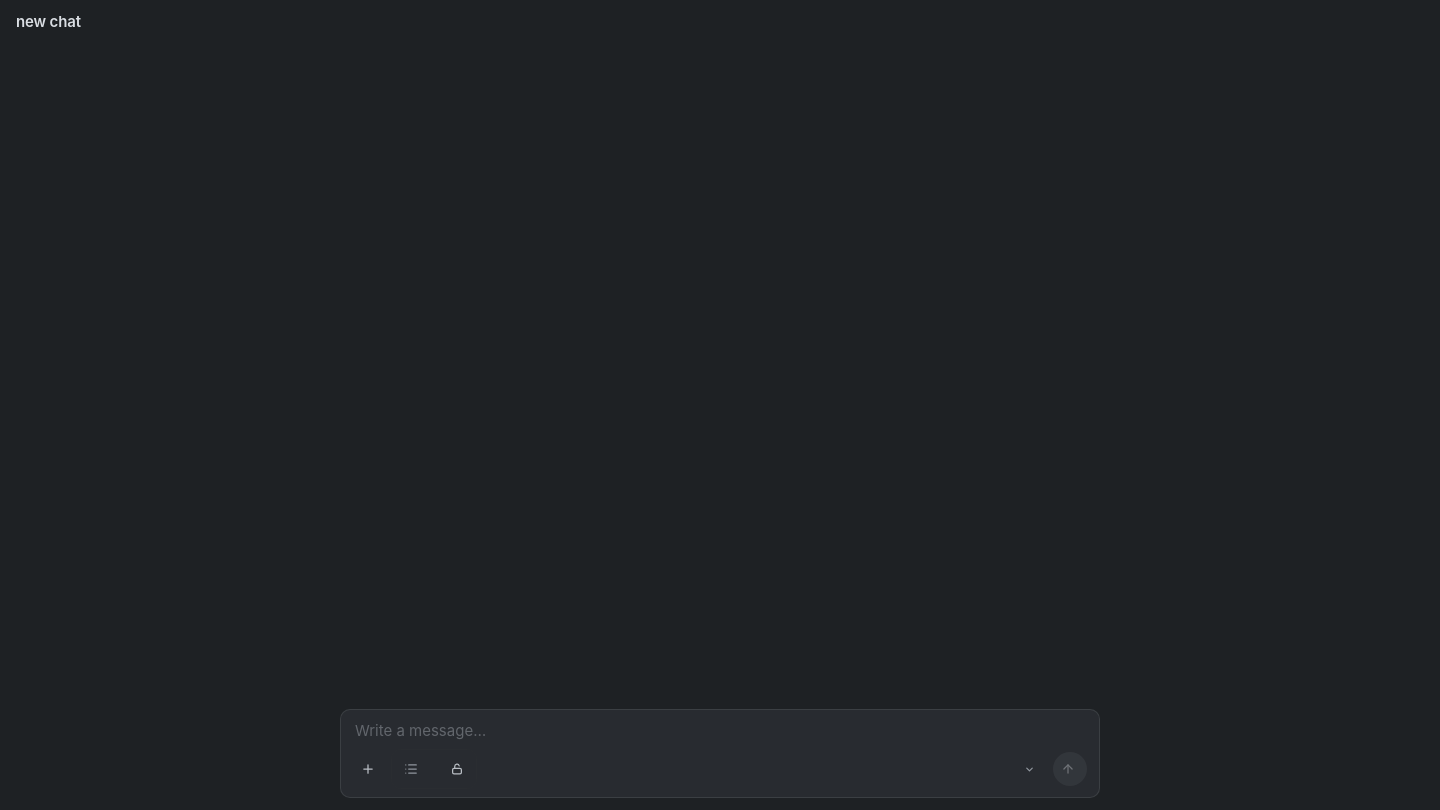
Scenario: composer — caractérisation › joindre un dossier (mouse) ferme les suggestions et retire le token
Type "Analyse @method" into the text box with placeholder "Write a message…". click: [720, 730]
box: x1=355 y1=718 x2=1085 y2=743
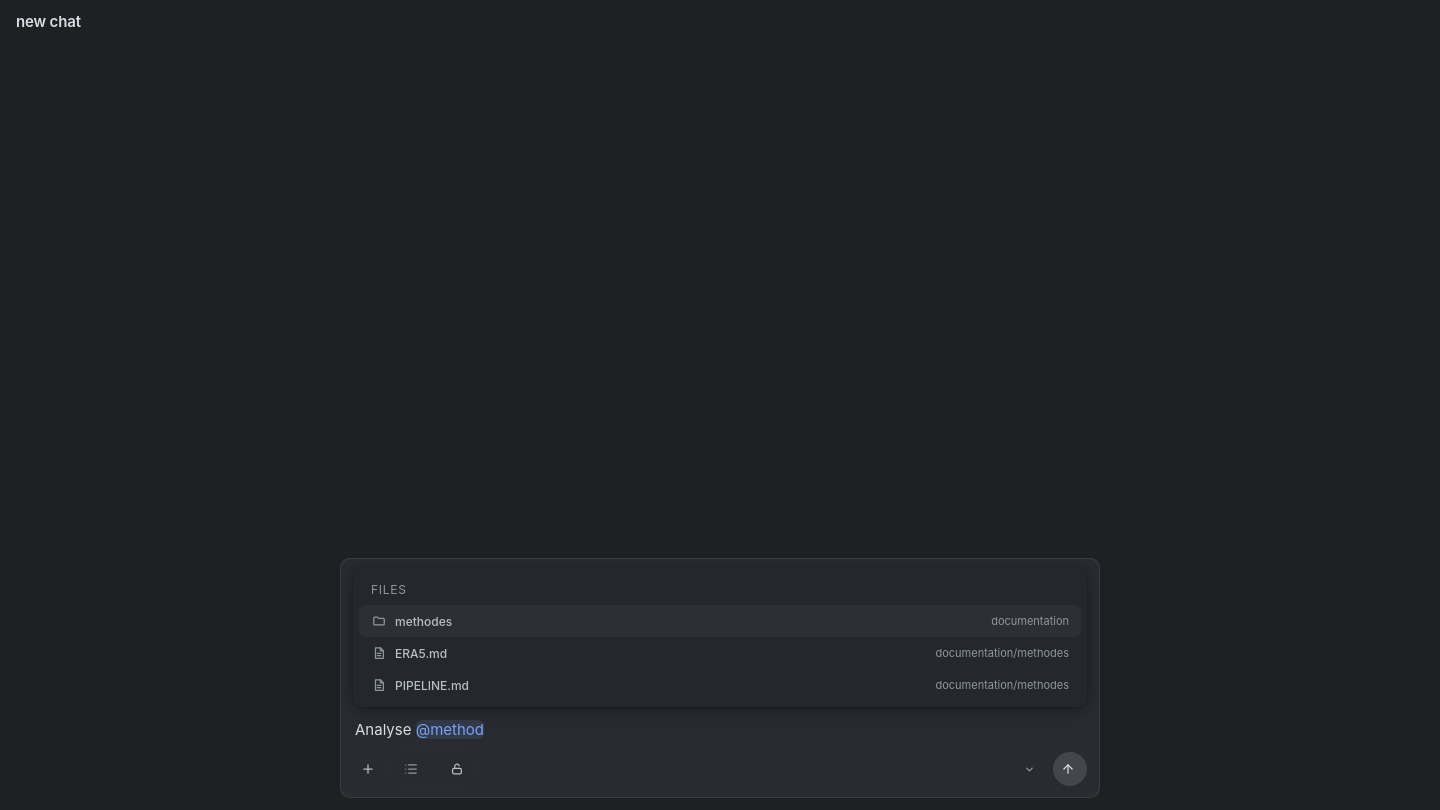
Press the mouse on the option "methodes documentation" at [424, 621], box x1=359 y1=605 x2=1081 y2=637
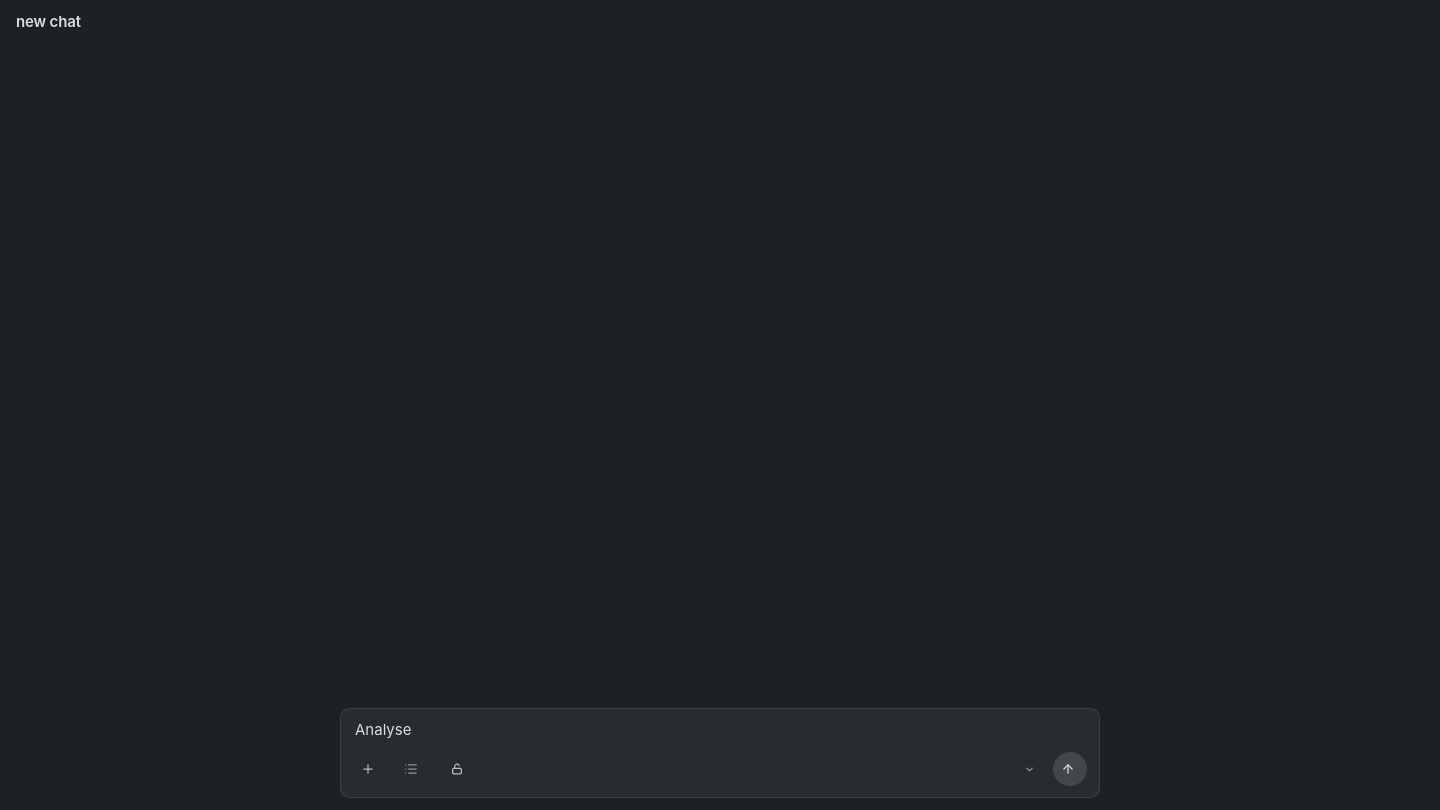
Check: the text box holds "Analyse ", box x1=355 y1=717 x2=1085 y2=743
Check: the list "Suggestions" is gone
